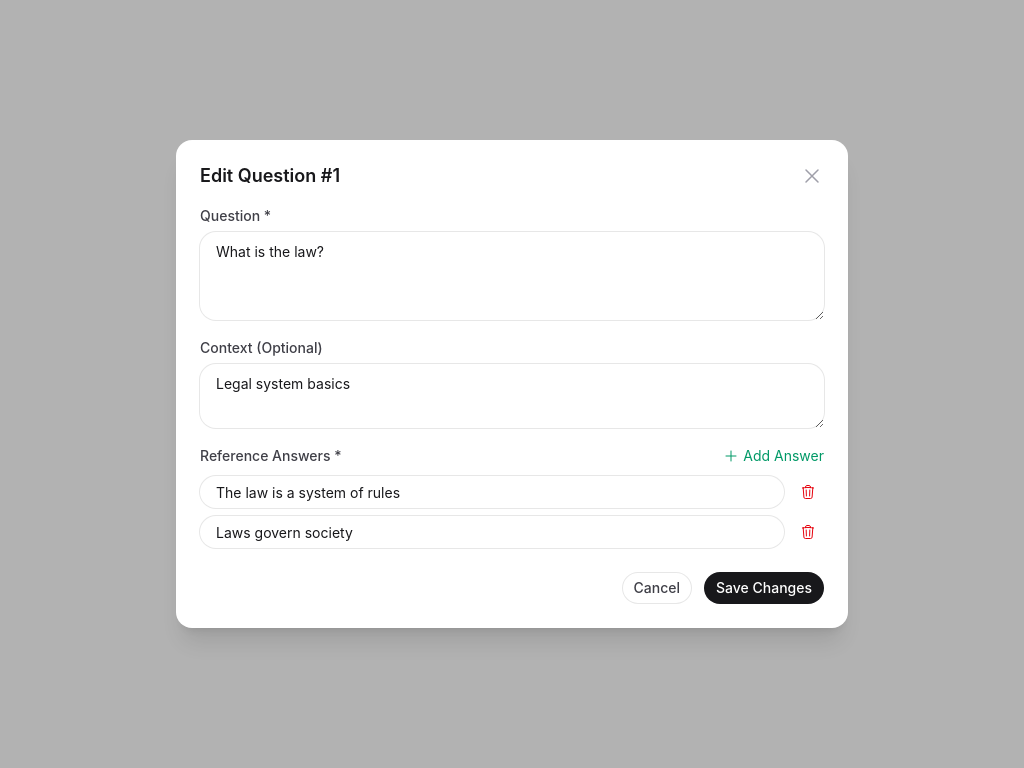
Test: QuestionEditModal › Form State Management › updates answer indices correctly after removal
The image size is (1024, 768).
# Add third answer
Click the button "Add Answer" at (774, 456), box [723,444,824,468]
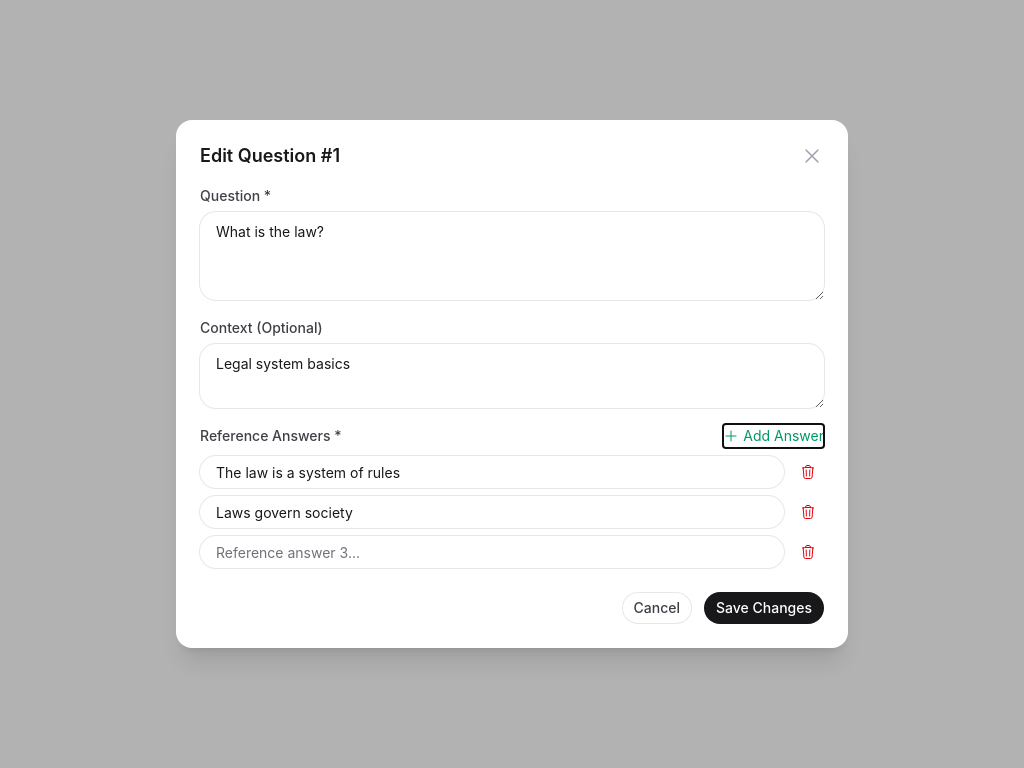
Type "Third answer" into the field with test id "reference-answer-2" at (492, 552), box [200,536,784,568]
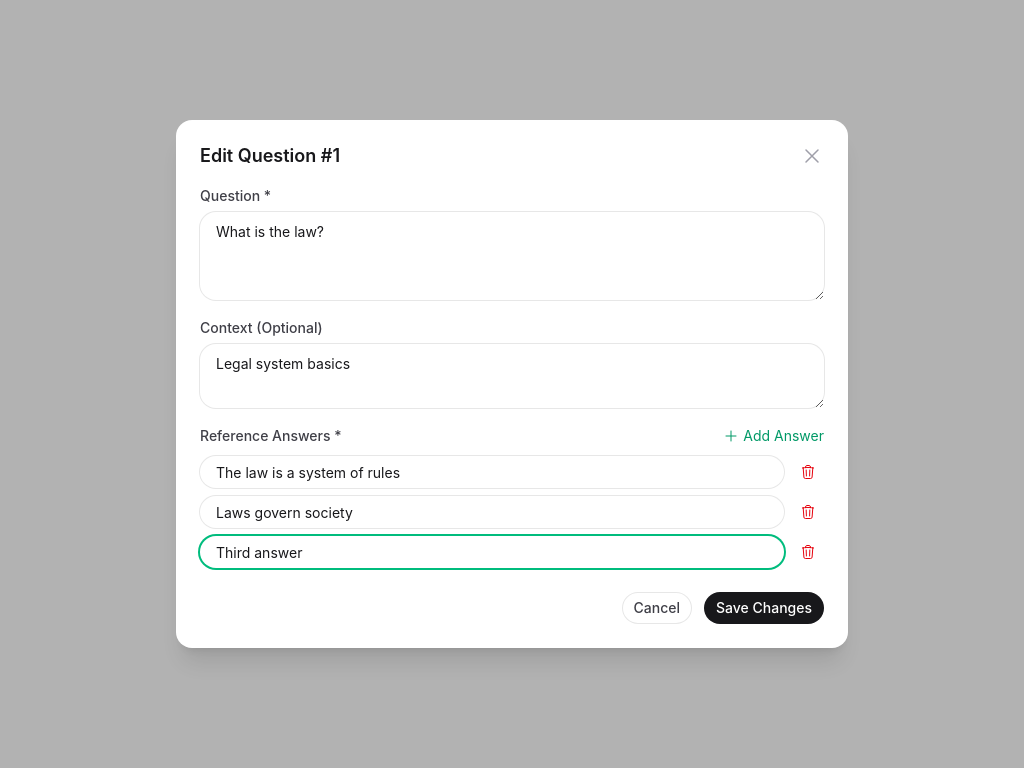
# Remove middle answer
Click the 2nd button titled "Remove answer" at (808, 512), box [792,496,824,528]
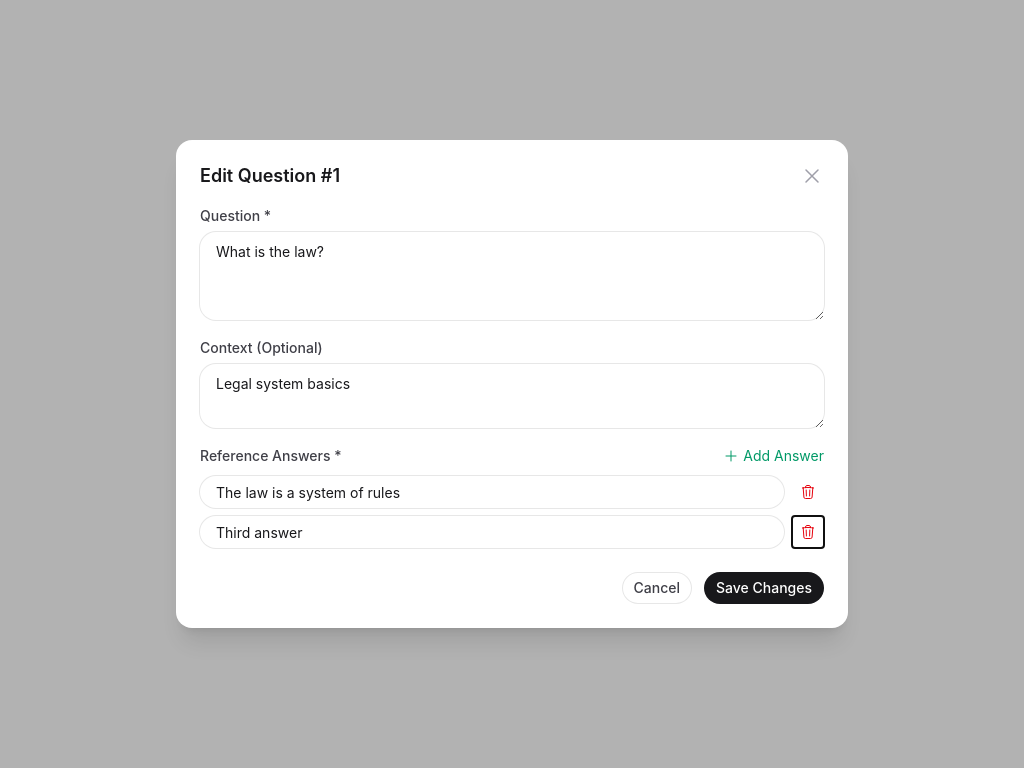
Check: the field with test id "reference-answer-0" is shown, box [200,476,784,508]
Check: the field with test id "reference-answer-2" is gone
